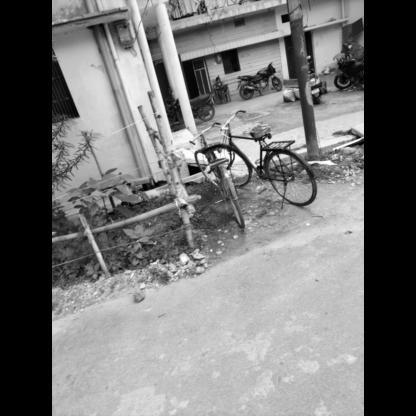Bicycle: (217, 103, 325, 215), (177, 120, 255, 238)
